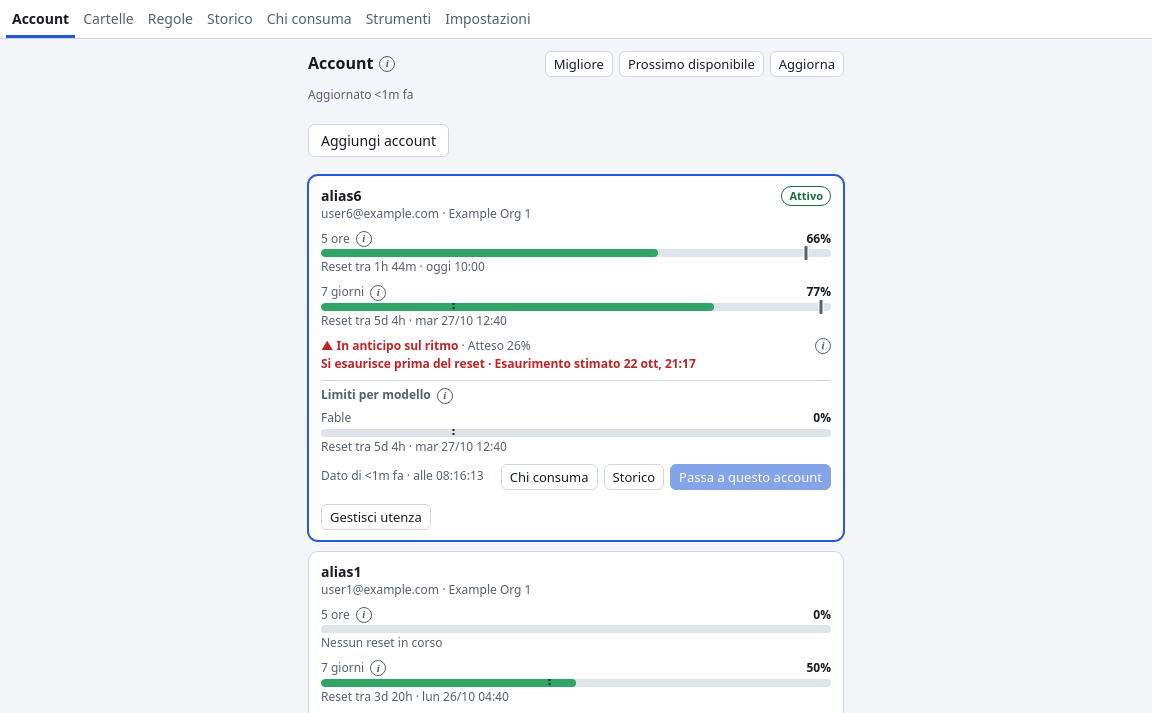
Test: SwapDeckApp: Storico dalla scheda di un account › storico: vuoto
Step 1. Click the button with aria-label "Apri lo storico di alias6" → [634, 477], box 604,464 -> 664,490
(page scrolled)
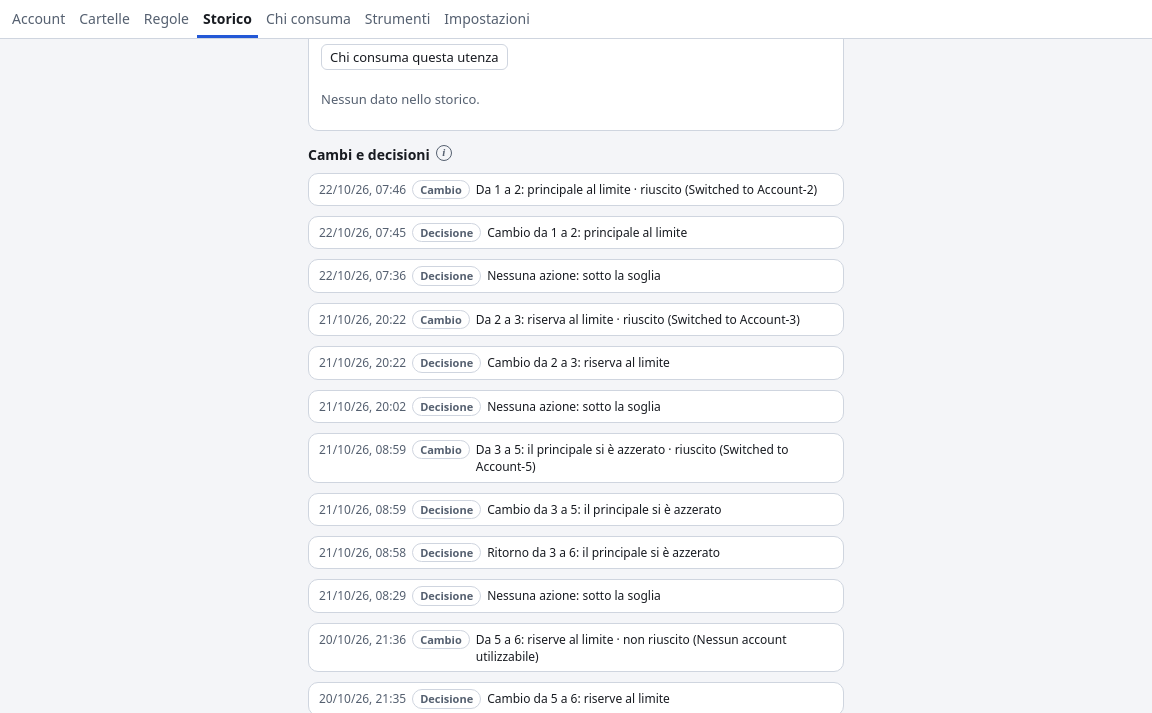
Expected: the text "Nessun dato nello storico." is shown, 321,90 -> 480,108
